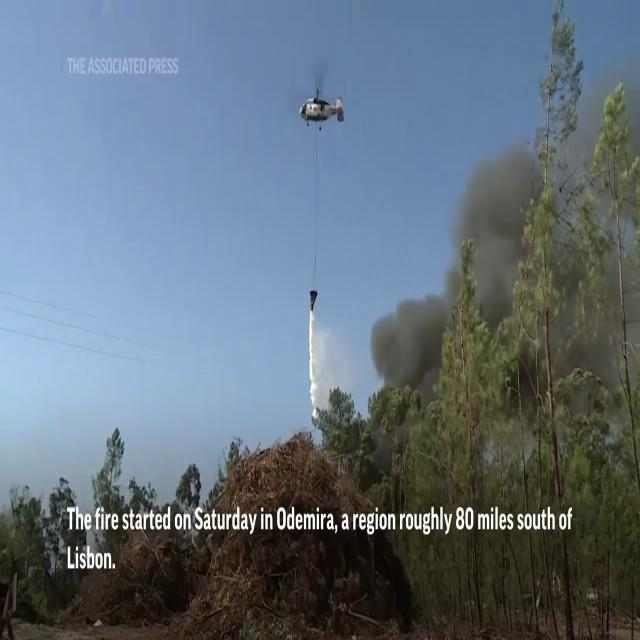Smoke: (449, 134, 537, 317), (369, 284, 451, 392)
